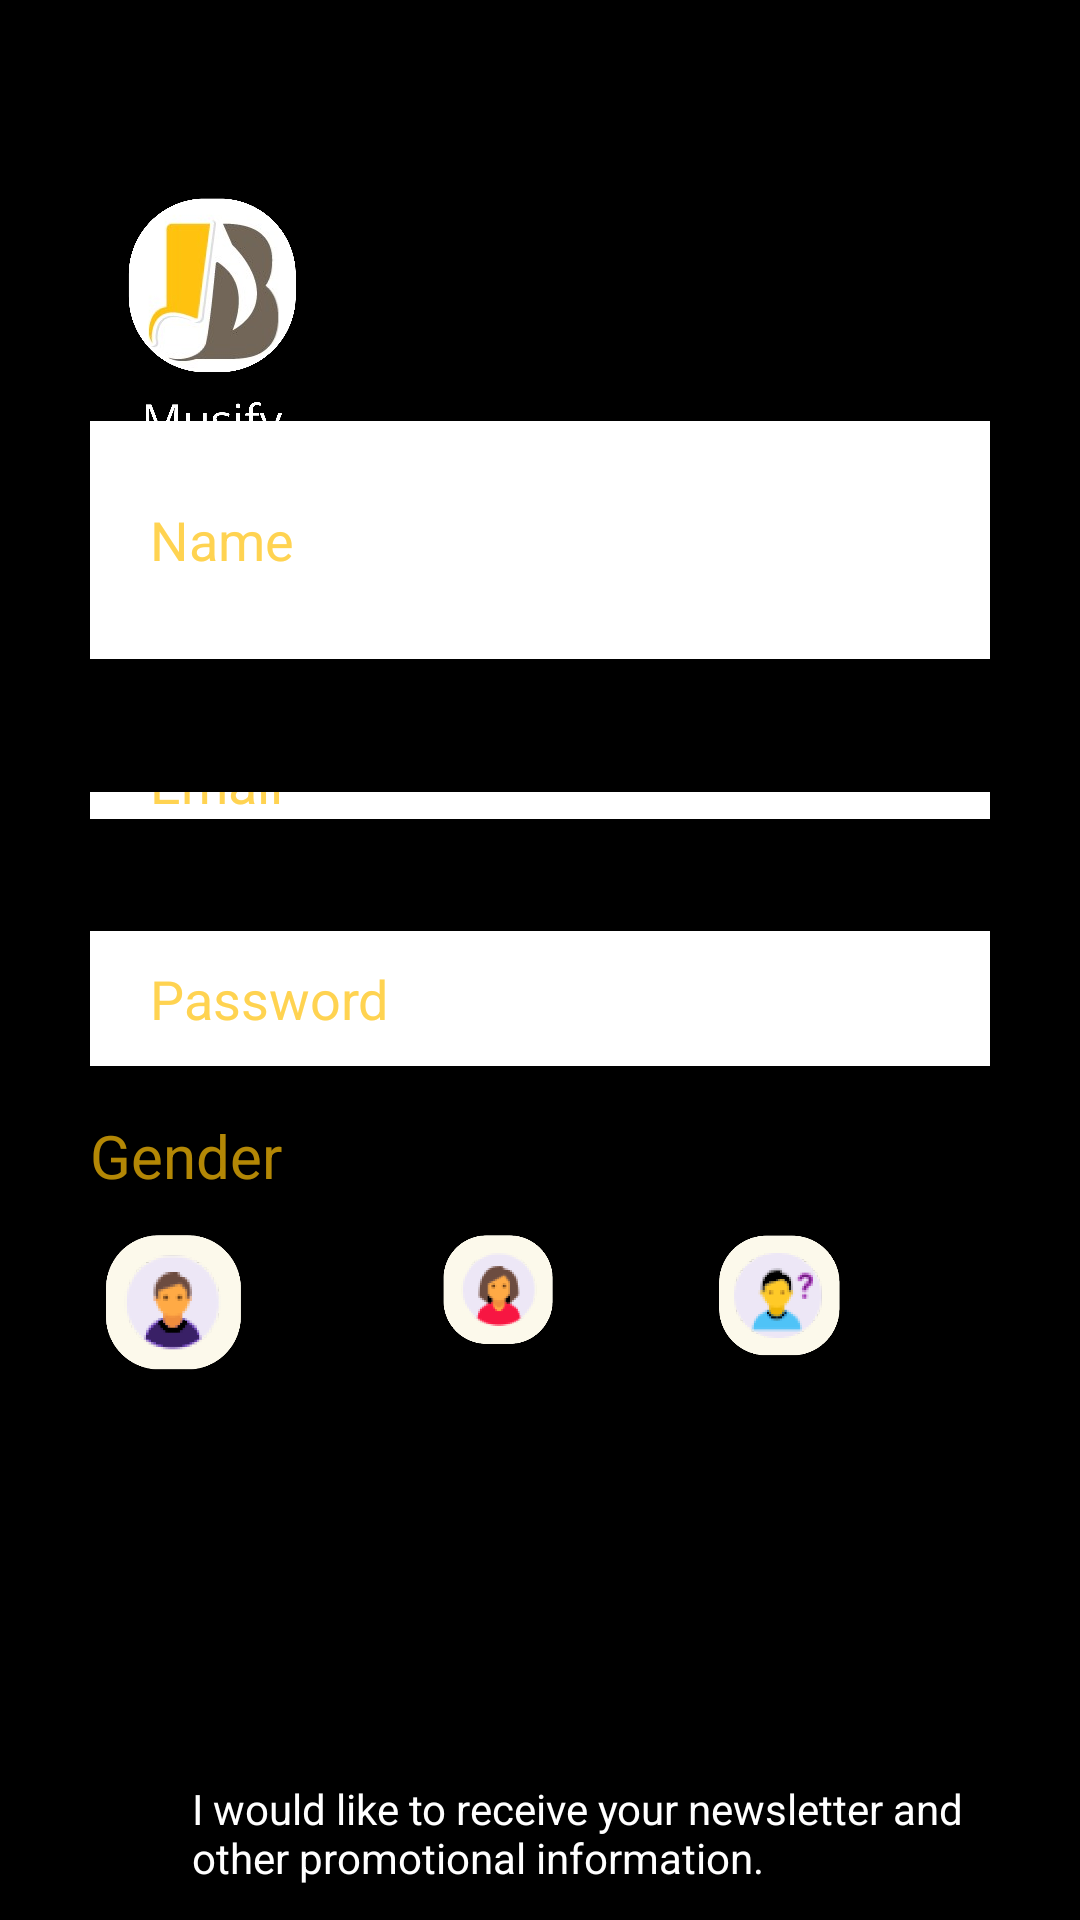

Screen size 1080px×1920px. Icon name, then its center in pixels as point (x, y):
female: point (498, 1289)
male: point (173, 1302)
other: point (779, 1295)
